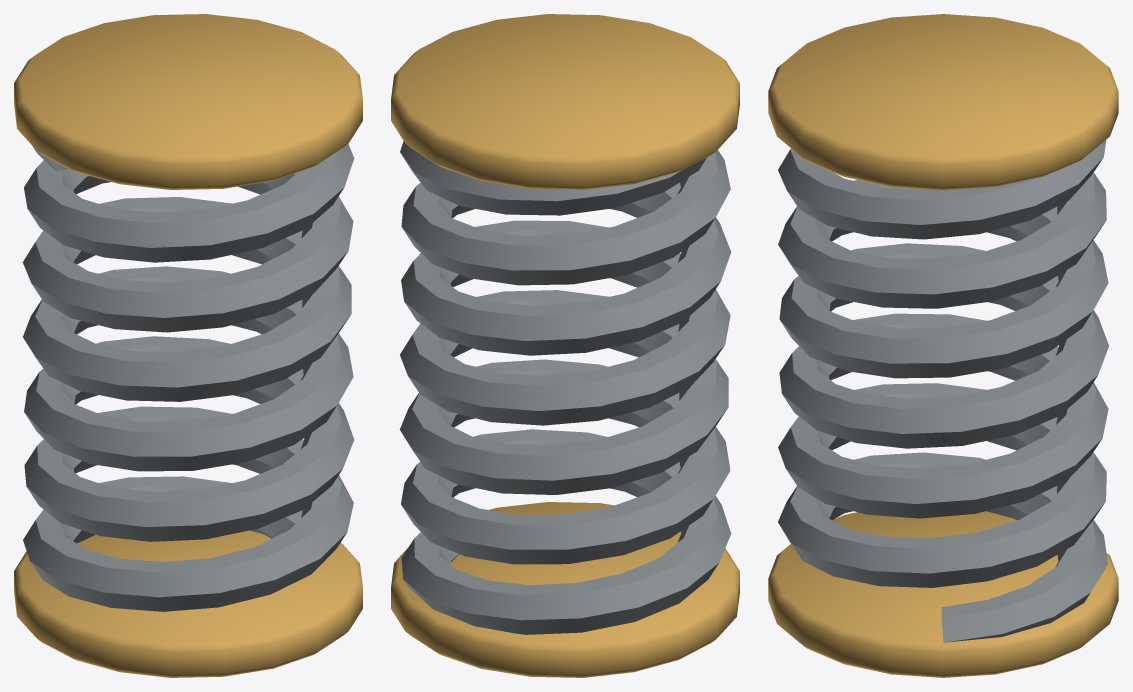
The model's file is part_spring_coil.glb.
3 views of the same model, side by side, from view 1: azimuth 30°, elevation 25°; view 2: azimuth 150°, elevation 25°; view 3: azimuth 270°, elevation 25° (orthographic).
Parts seen in each view (by area): view 1: part_spring_coil; view 2: part_spring_coil; view 3: part_spring_coil.
Part boxes in pixels (x1,y1,x2,y2): part_spring_coil: [14, 14, 362, 677]; part_spring_coil: [391, 14, 739, 677]; part_spring_coil: [768, 14, 1118, 677].
Size of the model in its own units: 0.112 by 0.184 by 0.112.
